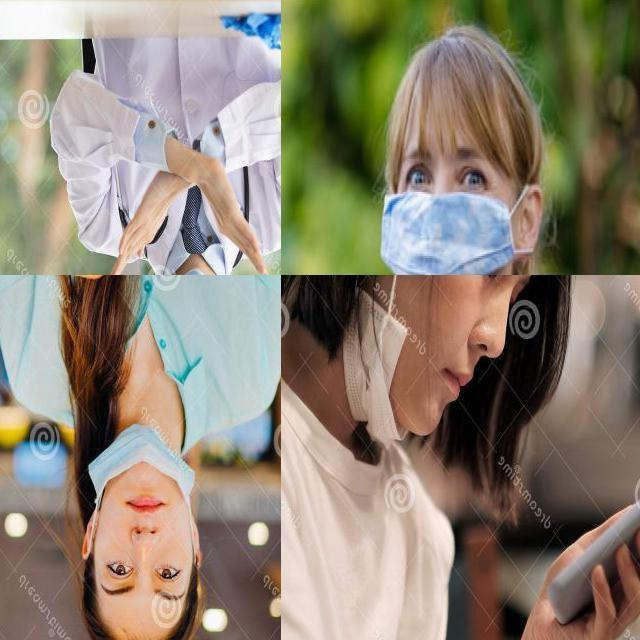hairnet: (345, 290, 479, 444), (89, 420, 195, 536)
